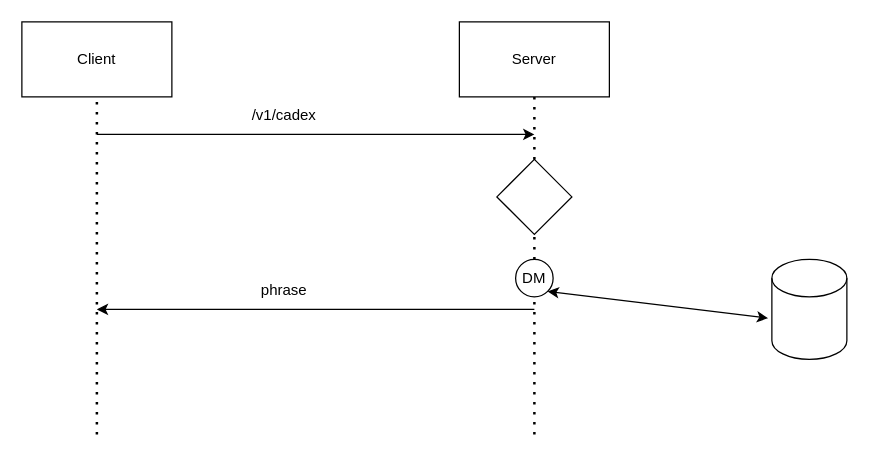
This 869x459 diagram has some shape labels left out. Each missing label, with the box of its shape:
BDD: (771, 258, 847, 359)
validation: (496, 158, 572, 234)
